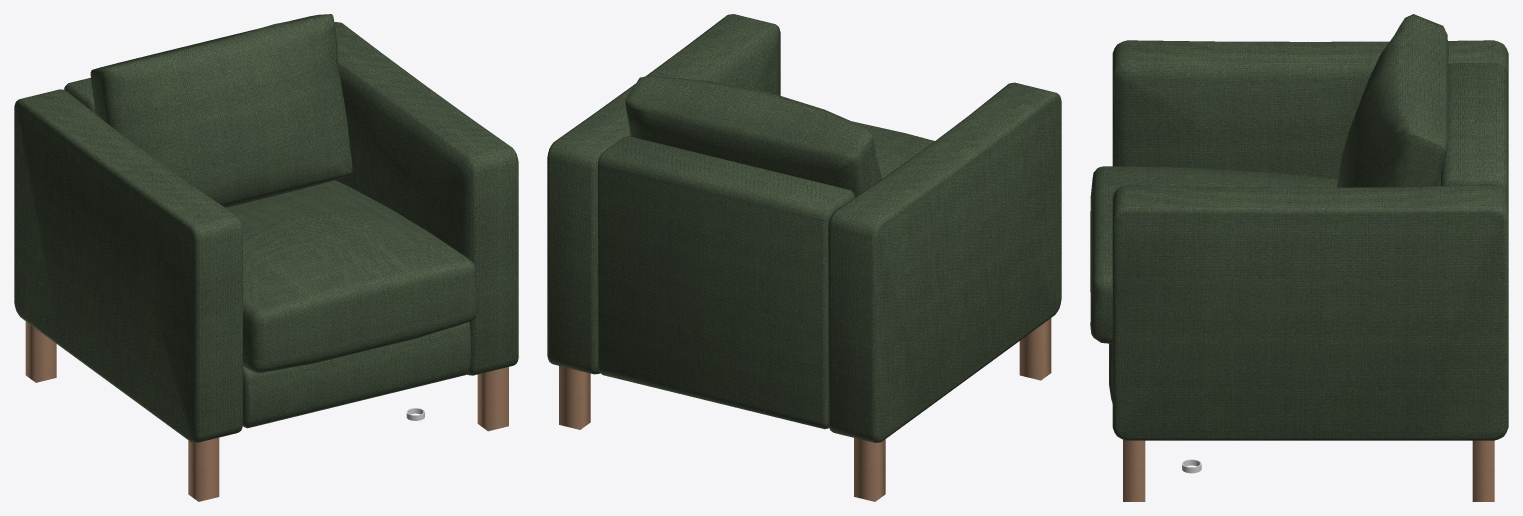
The model's file is chair.glb.
3 views of the same model, side by side, from view 1: azimuth 30°, elevation 25°; view 2: azimuth 150°, elevation 25°; view 3: azimuth 270°, elevation 25° (orthographic). The views are drawn at different scales.
Visible parts, largest first — view 1: Chair Karlstad; view 2: Chair Karlstad; view 3: Chair Karlstad.
Part boxes in pixels (x1,y1,x2,y2): Chair Karlstad: (14, 14, 518, 501); Chair Karlstad: (547, 14, 1061, 501); Chair Karlstad: (1090, 14, 1508, 501).
Bounding box in the file's own units: 0.8338 × 0.8103 × 0.8688.
Materials: 3 (2 with a texture image).
